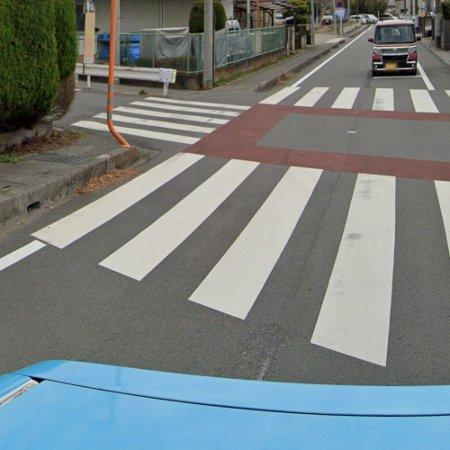crosswalks: (32, 150, 450, 368), (74, 94, 253, 147), (257, 84, 450, 114)
